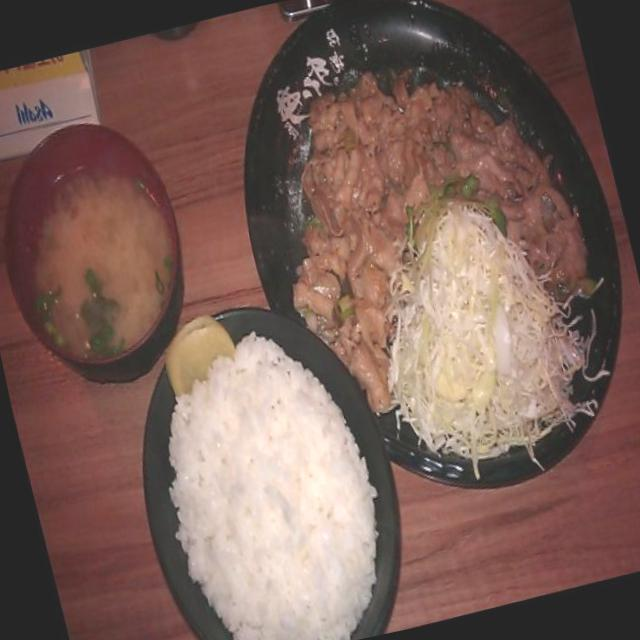Rice: (137, 311, 404, 640)
